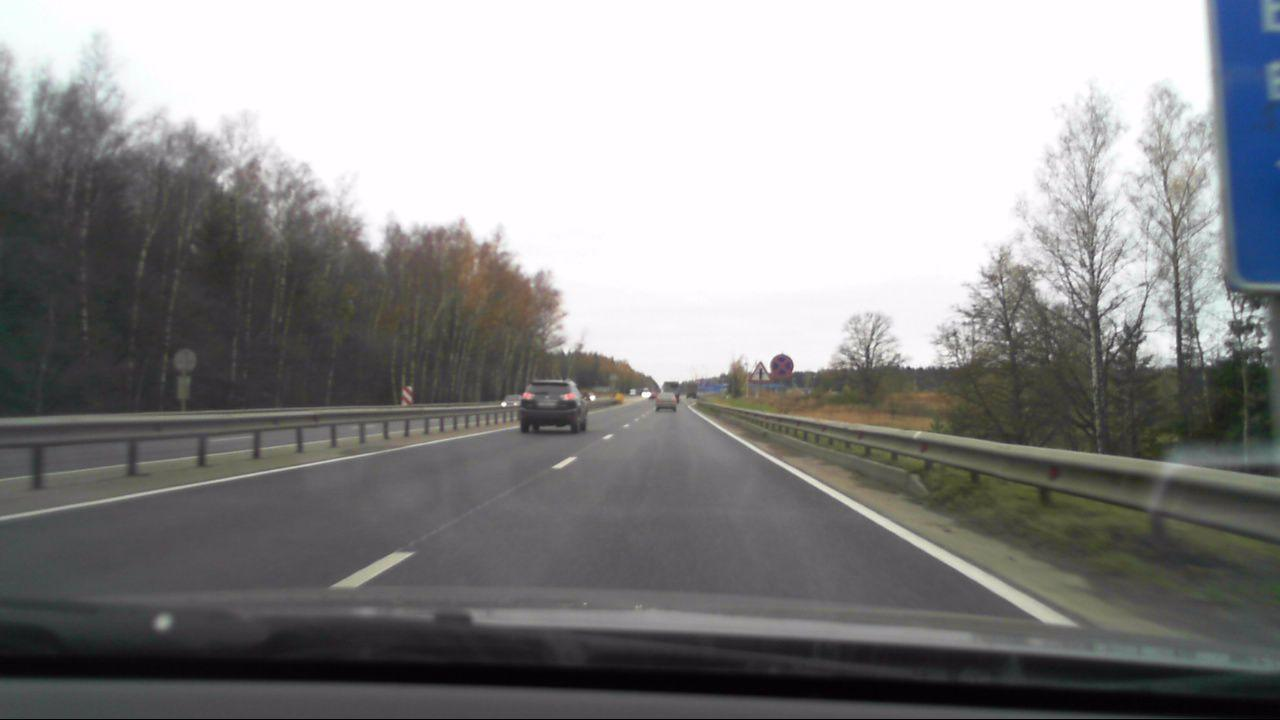2_3_1: (745, 361, 772, 384)
3_27: (770, 353, 794, 379)
